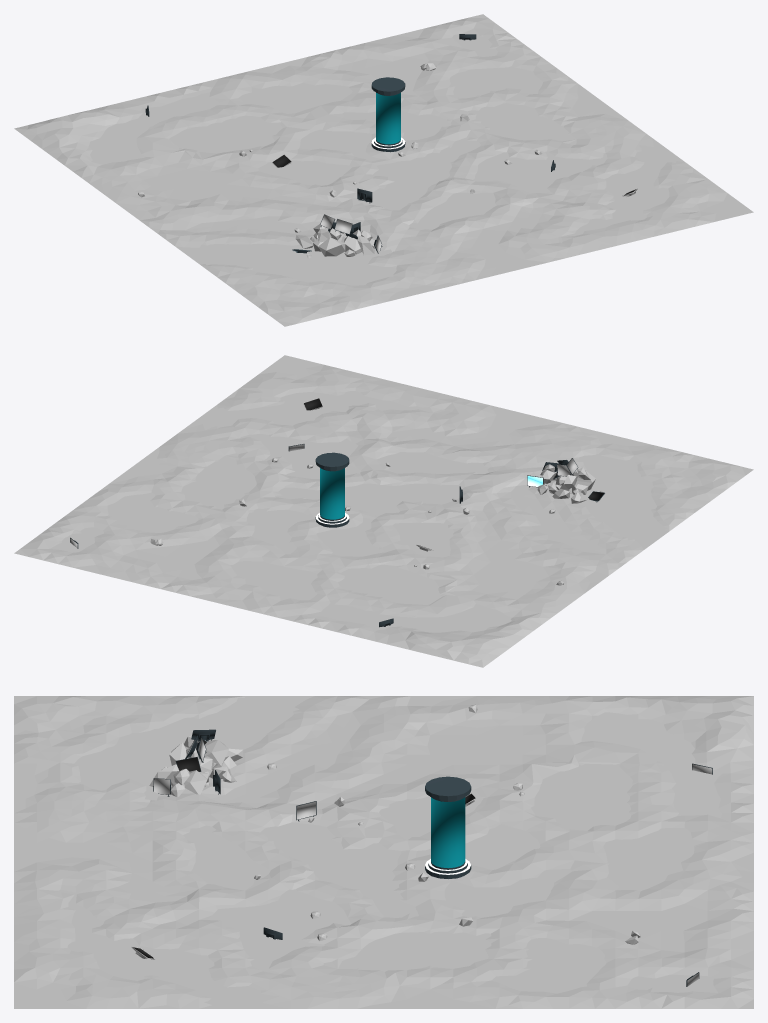
Rendered from level1_v2-scene.gltf.
3 renders of one model, top to bottom at view 1: azimuth 30°, elevation 25°; view 2: azimuth 150°, elevation 25°; view 3: azimuth 270°, elevation 25°, orthographic. The views are drawn at different scales.
Parts seen in each view (by area): view 1: Plane, Circle.004, Circle.012, Circle.005, Circle.003, Circle.011, Circle.002, Circle.009, Circle.006, Circle.008, podium, Circle.013 (+4 smaller); view 2: Plane, Circle.004, Circle.012, Circle.005, Circle.003, Circle.002, Circle.009, Circle.011, Circle.006, Circle.008, podium, Circle.013 (+4 smaller); view 3: Plane, Circle.004, Circle.012, Circle.005, Circle.003, Circle.011, Circle.002, Circle.009, Circle.006, Circle.008, podium, Circle.010 (+4 smaller).
Boxes of the visible parts, bbox=[...] form: Plane: bbox=[14, 14, 753, 326]; Circle.004: bbox=[198, 243, 396, 285]; Circle.012: bbox=[558, 145, 676, 242]; Circle.005: bbox=[372, 137, 480, 210]; Circle.003: bbox=[88, 92, 222, 162]; Circle.011: bbox=[473, 151, 607, 193]; Circle.002: bbox=[169, 115, 282, 153]; Circle.009: bbox=[468, 103, 576, 145]; Circle.006: bbox=[239, 83, 352, 113]; Circle.008: bbox=[449, 66, 542, 98]; podium: bbox=[371, 77, 405, 152]; Circle.013: bbox=[409, 192, 496, 230]; Plane: bbox=[14, 355, 753, 667]; Circle.004: bbox=[547, 454, 667, 540]; Circle.012: bbox=[200, 391, 445, 429]; Circle.005: bbox=[275, 483, 462, 515]; Circle.003: bbox=[311, 603, 511, 632]; Circle.002: bbox=[338, 564, 441, 604]; Circle.009: bbox=[181, 453, 256, 509]; Circle.011: bbox=[239, 433, 361, 478]; Circle.006: bbox=[230, 561, 317, 600]; Circle.008: bbox=[107, 492, 198, 532]; podium: bbox=[315, 452, 349, 527]; Circle.013: bbox=[377, 452, 489, 473]; Plane: bbox=[14, 696, 753, 1008]; Circle.004: bbox=[74, 697, 299, 800]; Circle.012: bbox=[58, 889, 279, 1005]; Circle.005: bbox=[260, 822, 418, 917]; Circle.003: bbox=[581, 712, 722, 818]; Circle.011: bbox=[208, 889, 350, 973]; Circle.002: bbox=[531, 763, 632, 830]; Circle.009: bbox=[323, 931, 491, 971]; Circle.006: bbox=[603, 828, 704, 891]; Circle.008: bbox=[491, 938, 606, 993]; podium: bbox=[425, 776, 471, 878]; Circle.010: bbox=[444, 869, 572, 917].
Size of what is drawn, in the model's own units: 31.96 by 4.28 by 31.96.
